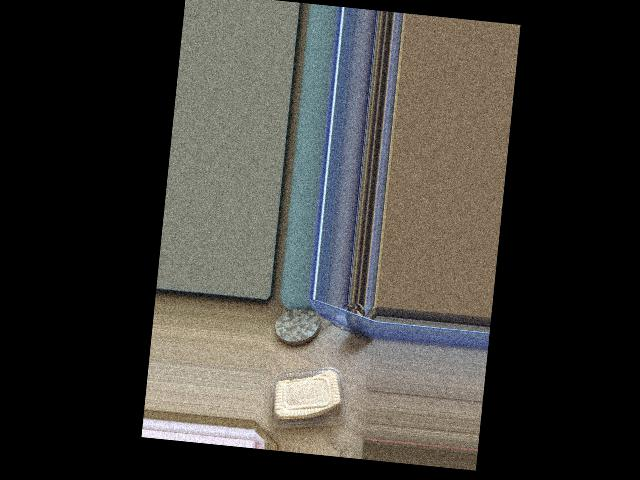cheese: (256, 356, 343, 450)
